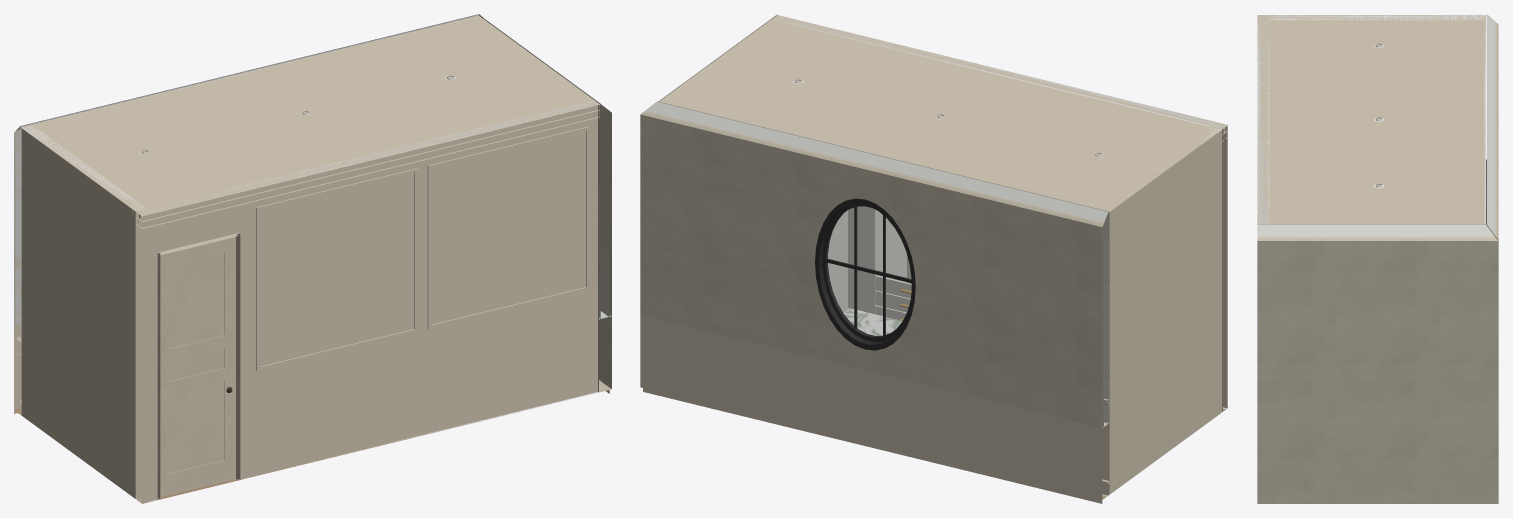
Rendered from primary-green-closet-1aa0176f0907.glb.
3 renders of one model, left to right at view 1: azimuth 30°, elevation 25°; view 2: azimuth 150°, elevation 25°; view 3: azimuth 270°, elevation 25°, orthographic. The views are drawn at different scales.
Parts seen in each view (by area): view 1: primary-green-closet-21ac2ed1b4475155, primary-green-closet-9d91b47435c6fb33, primary-green-closet-95b94d4b81cfb474, primary-green-closet-b7a870a0f6b43c8c, primary-green-closet-8e484a943eae90b2, primary-green-closet-c5fd04e49693d8cd, primary-green-closet-780708765654f3c3, primary-green-closet-91eb0f90e9e94d87, primary-green-closet-30f9d475162e2dd8, primary-green-closet-08e5178be0cf1e43, primary-green-closet-3a163573517a0810, primary-green-closet-92b1a6021e7b5e29 (+2 smaller); view 2: primary-green-closet-3763e2fb8578d282, primary-green-closet-9d91b47435c6fb33, primary-green-closet-3a806c711886e947, primary-green-closet-95b94d4b81cfb474, primary-green-closet-a35a5dd7ba934f7b, primary-green-closet-91eb0f90e9e94d87, primary-green-closet-f386269db15356c9, primary-green-closet-21ac2ed1b4475155, primary-green-closet-2575515a05775d9e, primary-green-closet-feba501210e42be9, primary-green-closet-ddb0cf611f7c1133, primary-green-closet-9e752e60c4602503 (+2 smaller); view 3: primary-green-closet-adb6f49a6d2cbec3, primary-green-closet-9d91b47435c6fb33, primary-green-closet-16d9002bc6318568, primary-green-closet-791abe15be22adf2, primary-green-closet-91eb0f90e9e94d87, primary-green-closet-21ac2ed1b4475155, primary-green-closet-3a163573517a0810, primary-green-closet-92b1a6021e7b5e29, primary-green-closet-95b94d4b81cfb474, primary-green-closet-2575515a05775d9e, primary-green-closet-30f9d475162e2dd8, primary-green-closet-3763e2fb8578d282 (+5 smaller).
Boxes of the visible parts, x1,y1,x2,y2 form: primary-green-closet-21ac2ed1b4475155: (136, 101, 598, 503); primary-green-closet-9d91b47435c6fb33: (21, 15, 600, 216); primary-green-closet-95b94d4b81cfb474: (21, 126, 145, 498); primary-green-closet-b7a870a0f6b43c8c: (160, 236, 235, 497); primary-green-closet-8e484a943eae90b2: (427, 126, 589, 329); primary-green-closet-c5fd04e49693d8cd: (256, 168, 417, 370); primary-green-closet-780708765654f3c3: (157, 233, 240, 499); primary-green-closet-91eb0f90e9e94d87: (15, 14, 478, 341); primary-green-closet-30f9d475162e2dd8: (600, 104, 609, 316); primary-green-closet-08e5178be0cf1e43: (141, 104, 600, 228); primary-green-closet-3a163573517a0810: (132, 98, 592, 224); primary-green-closet-92b1a6021e7b5e29: (148, 111, 562, 211); primary-green-closet-3763e2fb8578d282: (642, 112, 1103, 427); primary-green-closet-9d91b47435c6fb33: (658, 14, 1226, 212); primary-green-closet-3a806c711886e947: (640, 315, 1109, 499); primary-green-closet-95b94d4b81cfb474: (1103, 128, 1221, 494); primary-green-closet-a35a5dd7ba934f7b: (815, 198, 915, 350); primary-green-closet-91eb0f90e9e94d87: (653, 102, 1108, 426); primary-green-closet-f386269db15356c9: (848, 206, 911, 320); primary-green-closet-21ac2ed1b4475155: (774, 15, 1227, 412); primary-green-closet-2575515a05775d9e: (643, 388, 1225, 503); primary-green-closet-feba501210e42be9: (828, 210, 847, 312); primary-green-closet-ddb0cf611f7c1133: (644, 111, 1103, 426); primary-green-closet-9e752e60c4602503: (843, 307, 902, 335); primary-green-closet-adb6f49a6d2cbec3: (1257, 237, 1498, 432); primary-green-closet-9d91b47435c6fb33: (1257, 15, 1486, 224); primary-green-closet-16d9002bc6318568: (1257, 432, 1498, 501); primary-green-closet-791abe15be22adf2: (1257, 224, 1495, 236); primary-green-closet-91eb0f90e9e94d87: (1486, 14, 1495, 231); primary-green-closet-21ac2ed1b4475155: (1257, 15, 1269, 224); primary-green-closet-3a163573517a0810: (1268, 15, 1275, 224); primary-green-closet-92b1a6021e7b5e29: (1260, 20, 1268, 224); primary-green-closet-95b94d4b81cfb474: (1269, 15, 1484, 20); primary-green-closet-2575515a05775d9e: (1257, 501, 1498, 503); primary-green-closet-30f9d475162e2dd8: (1257, 236, 1496, 238); primary-green-closet-3763e2fb8578d282: (1496, 23, 1498, 238).
Size of the model in its own units: 4.95 by 2.95 by 2.34.
22 materials, 5 textured.
